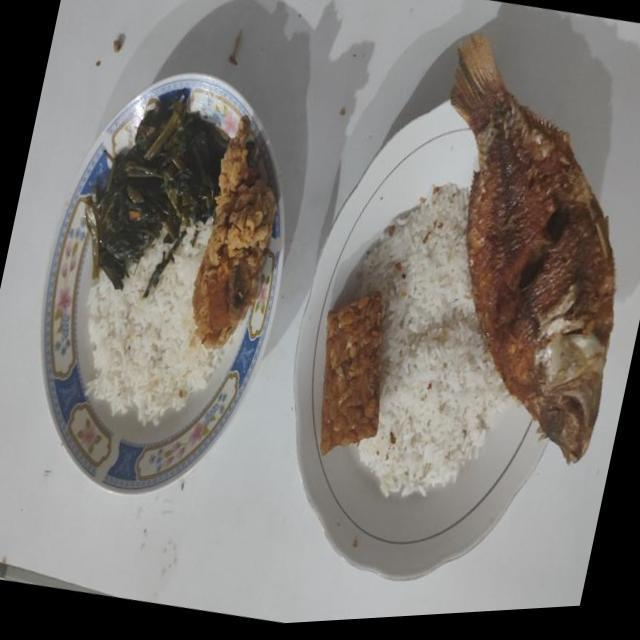ikan_mujair: (452, 34, 614, 462)
nasi_putih: (358, 183, 512, 497), (86, 218, 230, 426)
tempe_goreng: (320, 292, 382, 454)
tumis_kangkung: (90, 90, 228, 296)
